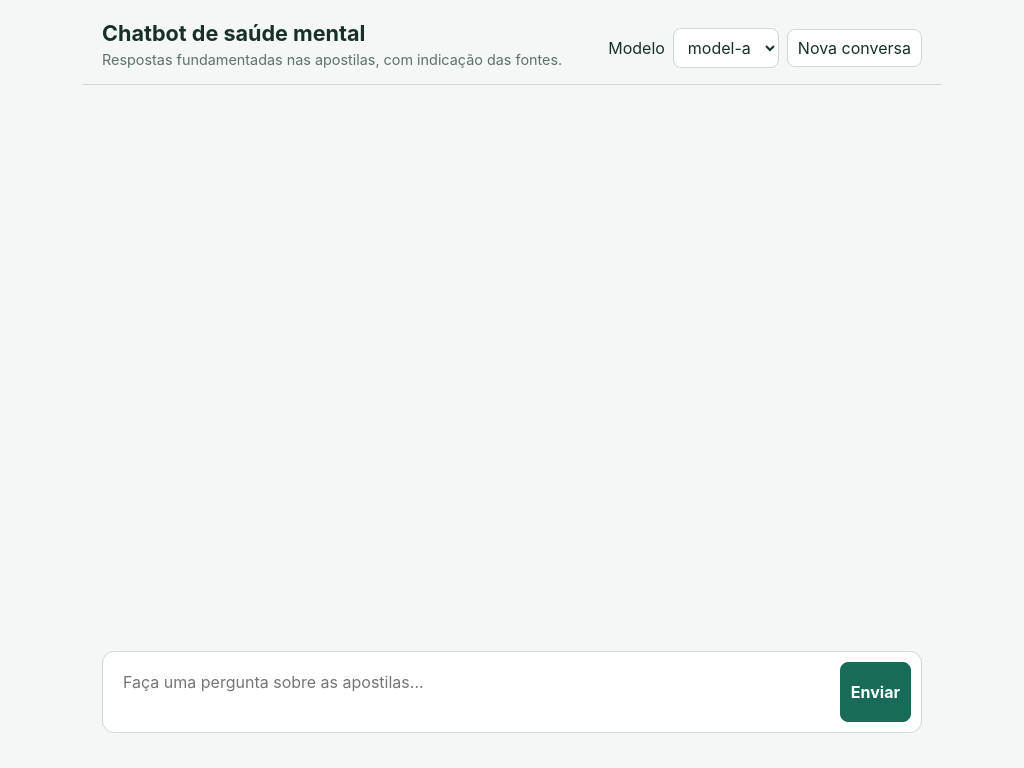
Test: ChatPage › shows the answer without a source line when no citation arrives
In the text box named "Sua pergunta": (471, 692) [113,662,830,722], type "Oi"
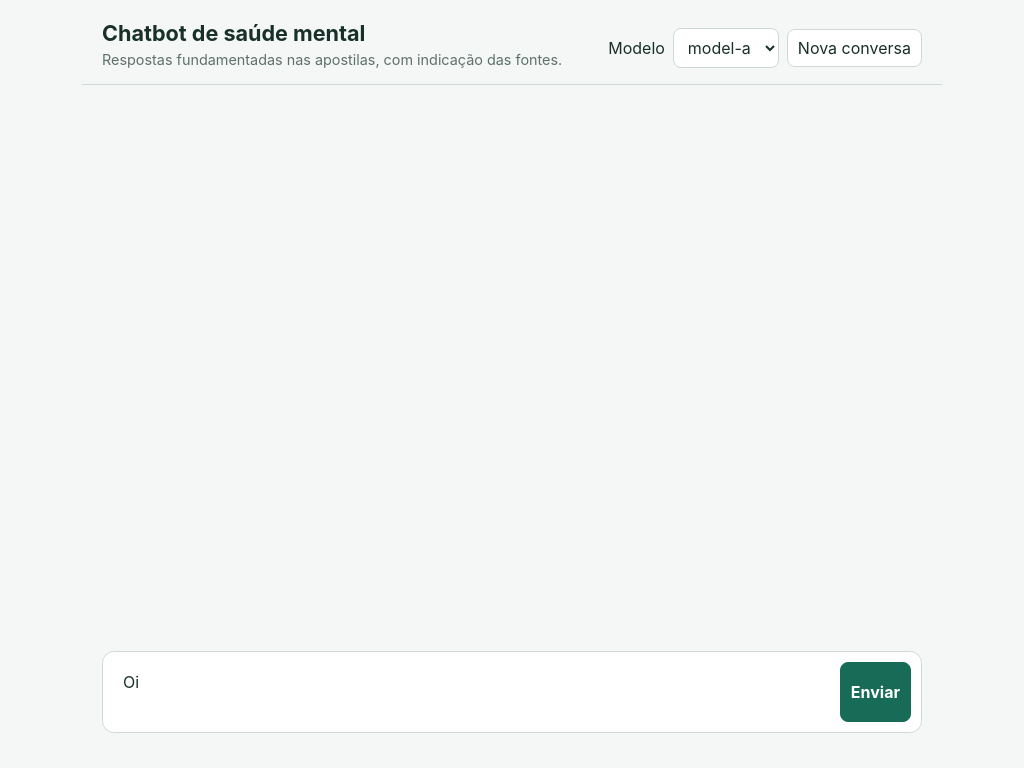
Click the button "Enviar": (875, 692) [840,662,911,722]
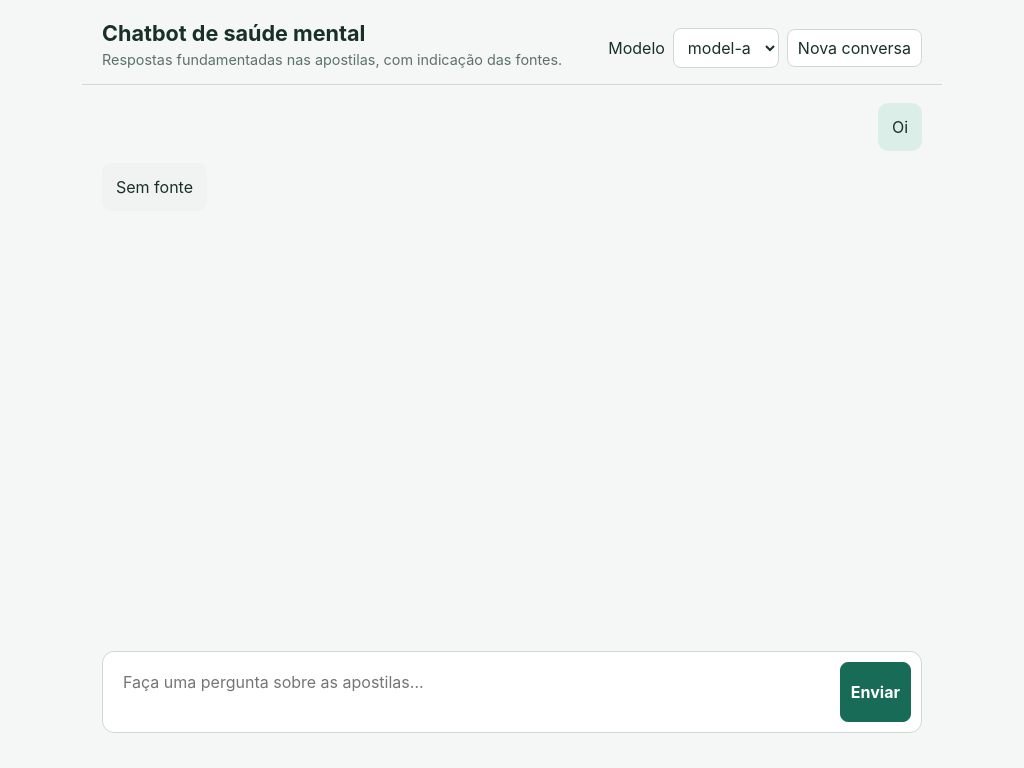
Expected: the text "Sem fonte" is shown, [116,175,193,199]
